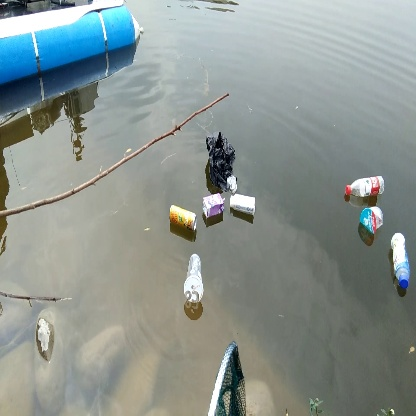bottle: (387, 231, 412, 291), (182, 252, 208, 304), (346, 174, 387, 200), (167, 202, 200, 234)
milk-box: (228, 191, 257, 217), (201, 191, 226, 220)
plastic-bag: (204, 133, 238, 190)
